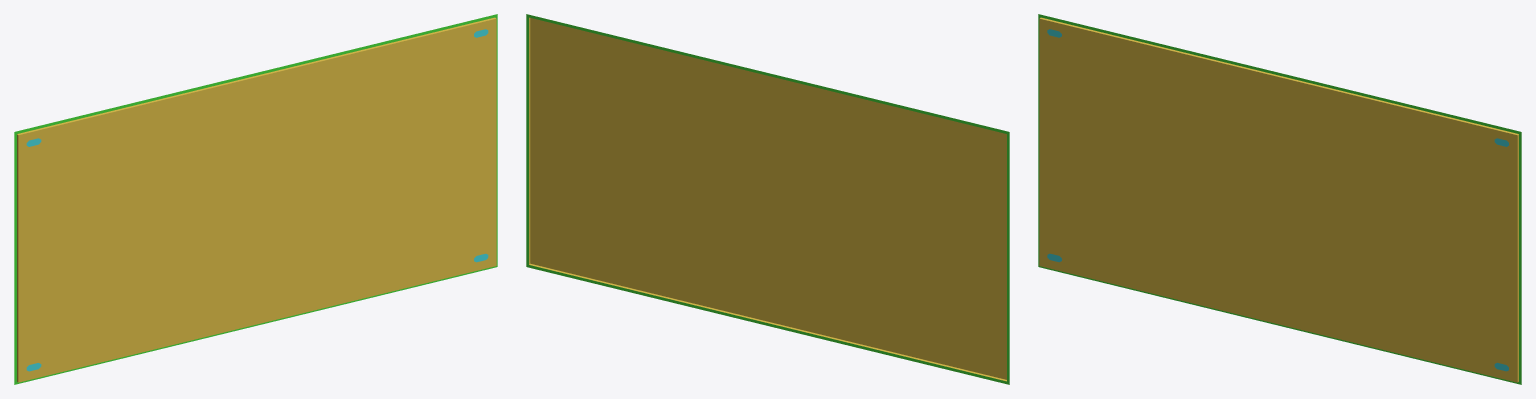
The model's file is Wall_49_C.fbx.
3 views of the same model, side by side, from view 1: azimuth 30°, elevation 25°; view 2: azimuth 150°, elevation 25°; view 3: azimuth 330°, elevation 25° (orthographic).
Visible parts, largest first — view 1: Wall_49_C; view 2: Wall_49_C; view 3: Wall_49_C.
Part boxes in pixels (<box>): Wall_49_C: <box>14,14,497,384</box>; Wall_49_C: <box>526,14,1009,384</box>; Wall_49_C: <box>1038,14,1521,384</box>.
Size of the model in its own units: 457 by 229 by 2.72.
